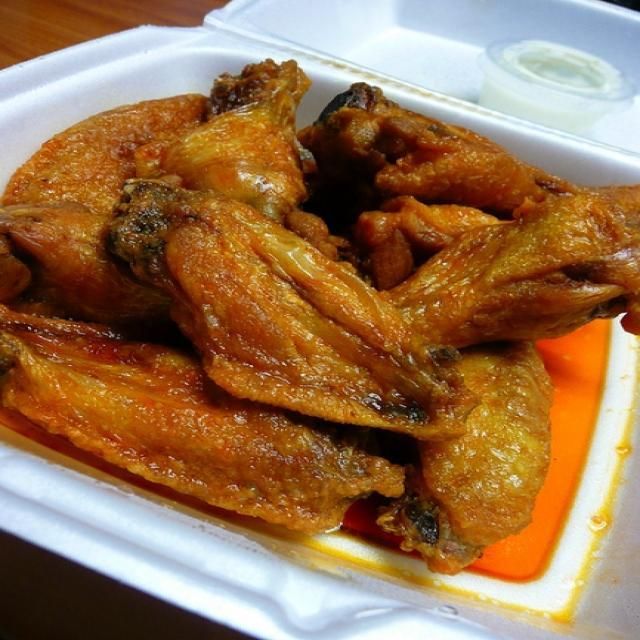Deep fried chicken wing: (16, 70, 625, 584)
